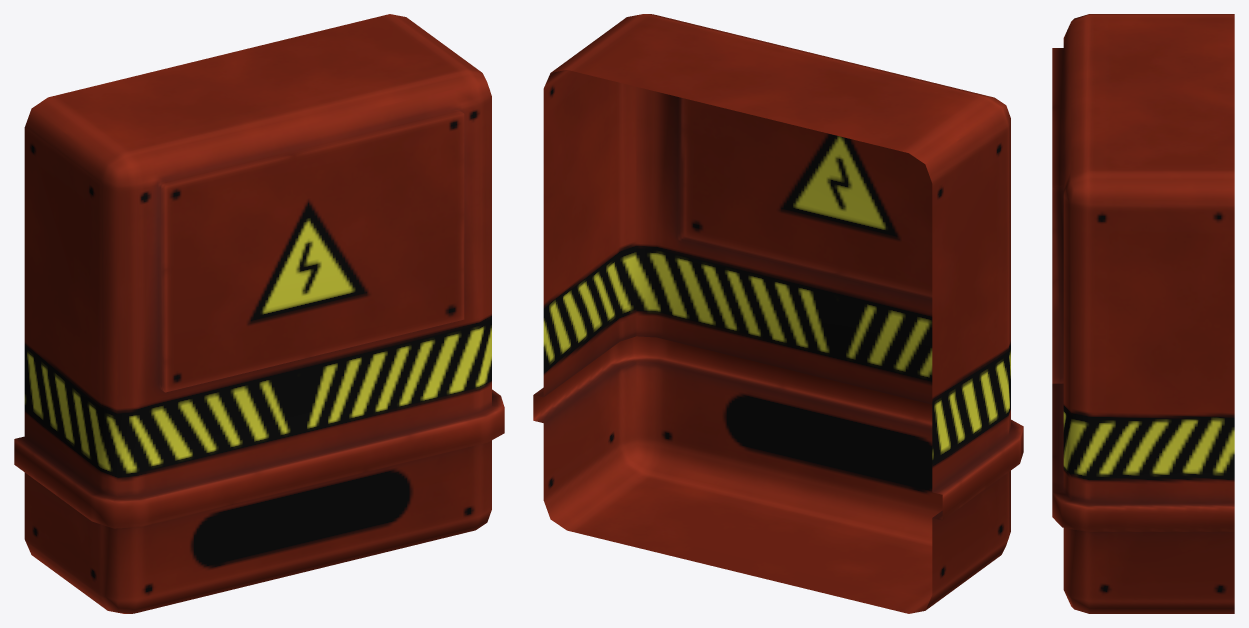
File: overgrown_train_station_-_power_box.glb
3 renders of one model, left to right at view 1: azimuth 30°, elevation 25°; view 2: azimuth 150°, elevation 25°; view 3: azimuth 270°, elevation 25°, orthographic. The views are drawn at different scales.
Visible parts, largest first — view 1: Object_2; view 2: Object_2; view 3: Object_2.
Part boxes in pixels (box(x1,y1,x2,y2)): Object_2: box(14, 14, 504, 613); Object_2: box(533, 14, 1023, 613); Object_2: box(1052, 14, 1234, 613).
Bounding box in the file's own units: 79 × 85 × 32.
1 material, 1 textured.
